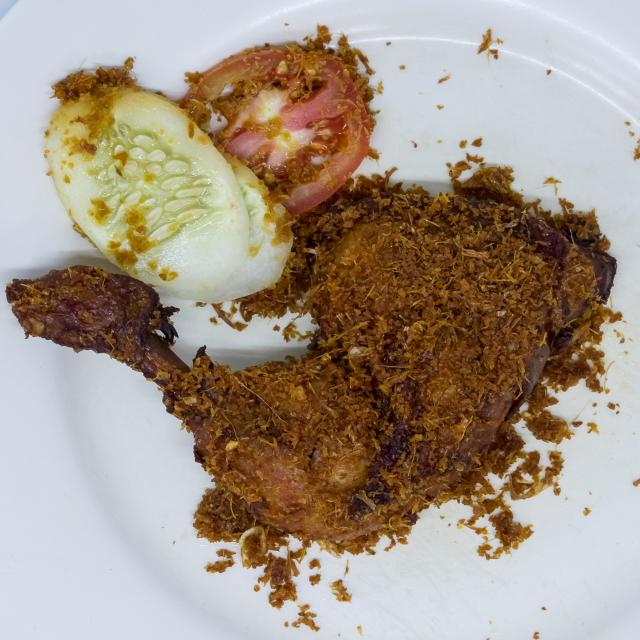Ayam-Goreng-Lengkuas: (12, 160, 625, 562)
